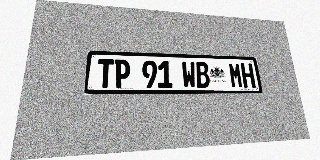1: (157, 61, 173, 88)
9: (142, 60, 157, 88)
B: (195, 62, 210, 88)
H: (240, 63, 256, 88)
M: (228, 63, 243, 88)
P: (114, 59, 130, 88)
T: (97, 59, 114, 88)
W: (181, 61, 197, 88)
